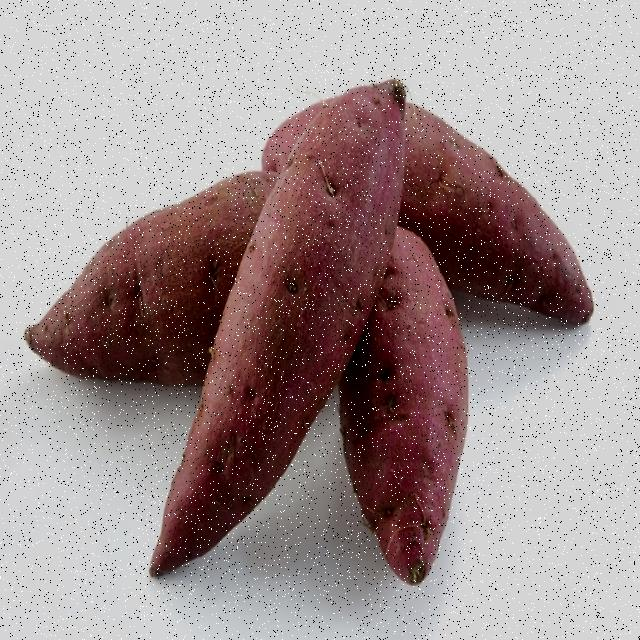Sweet Potato: (125, 72, 478, 599), (309, 182, 453, 619), (19, 150, 264, 369)
